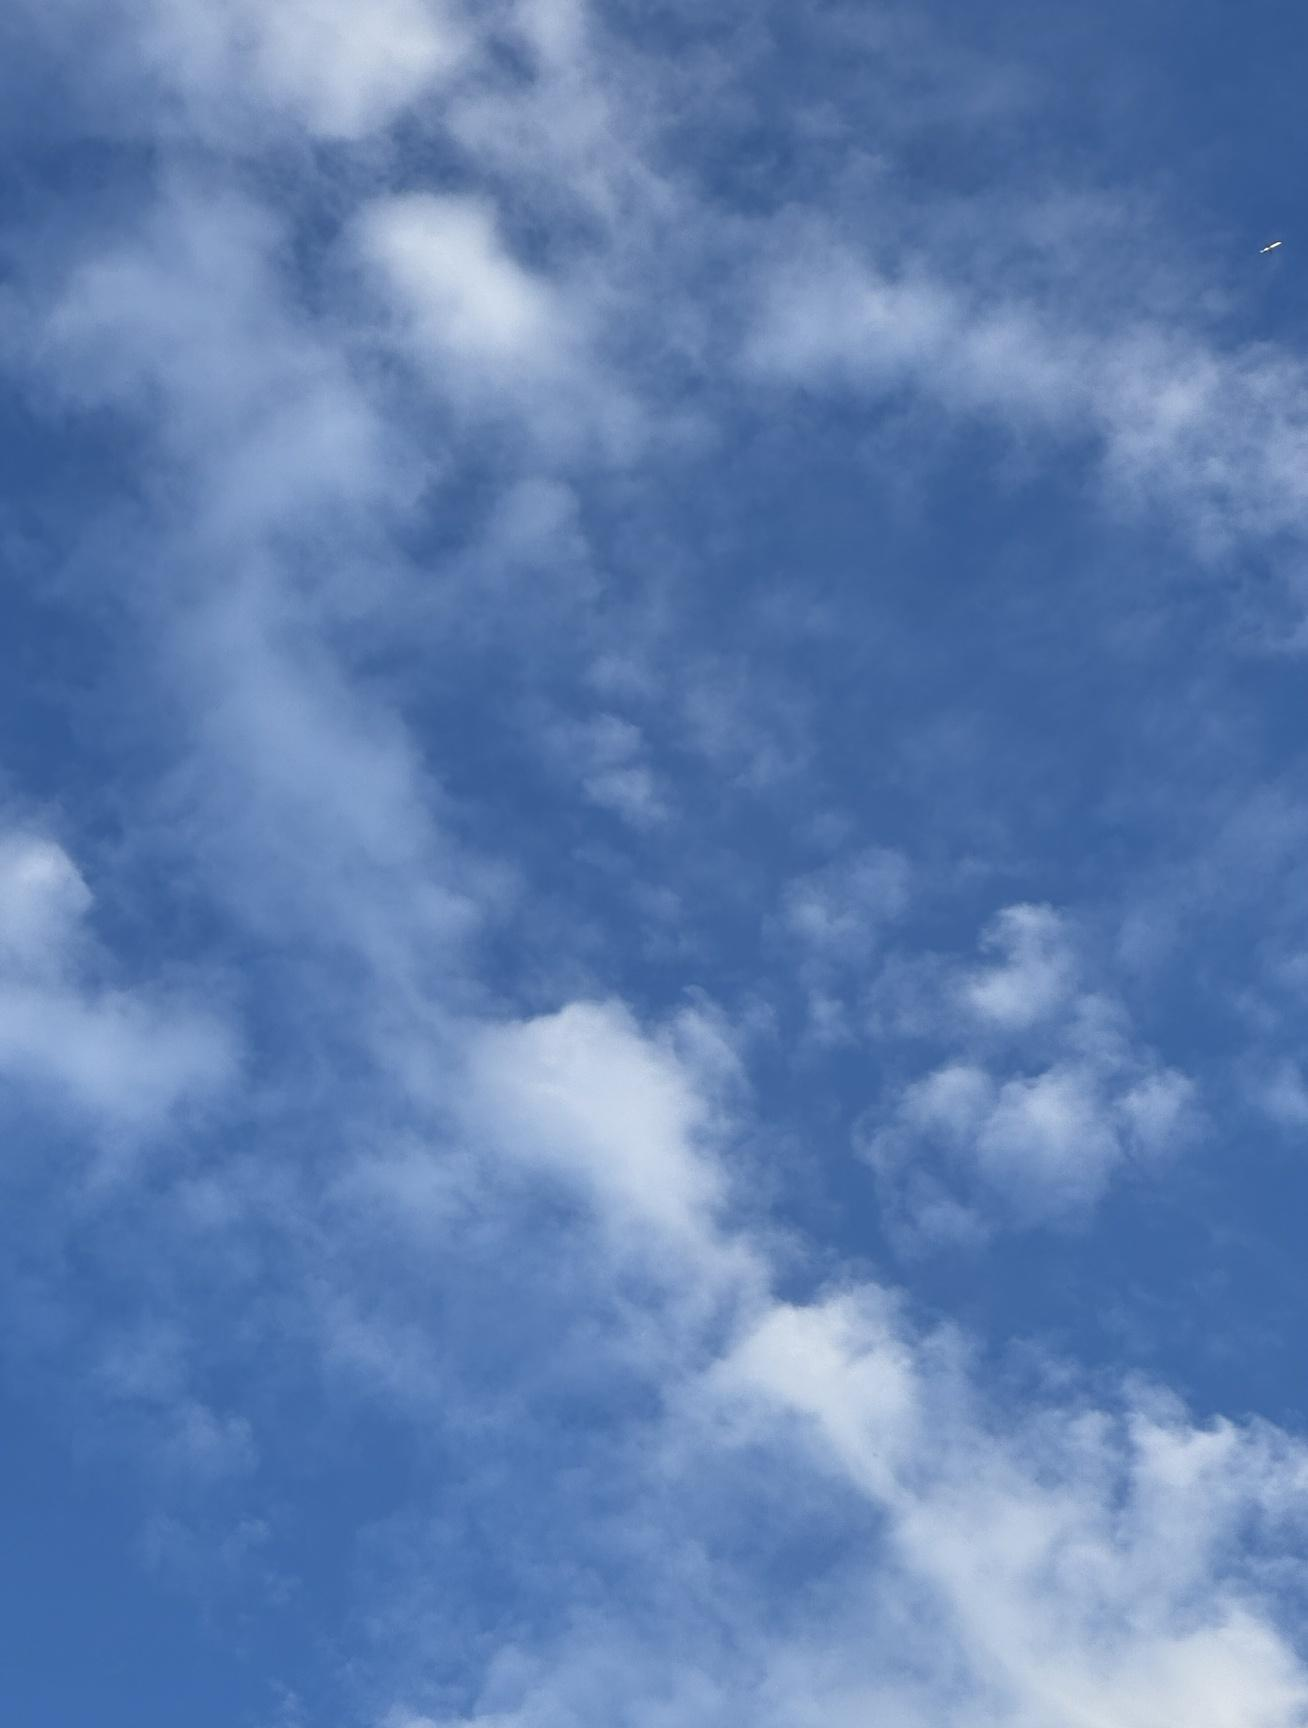Plane: (1231, 227, 1304, 269)
